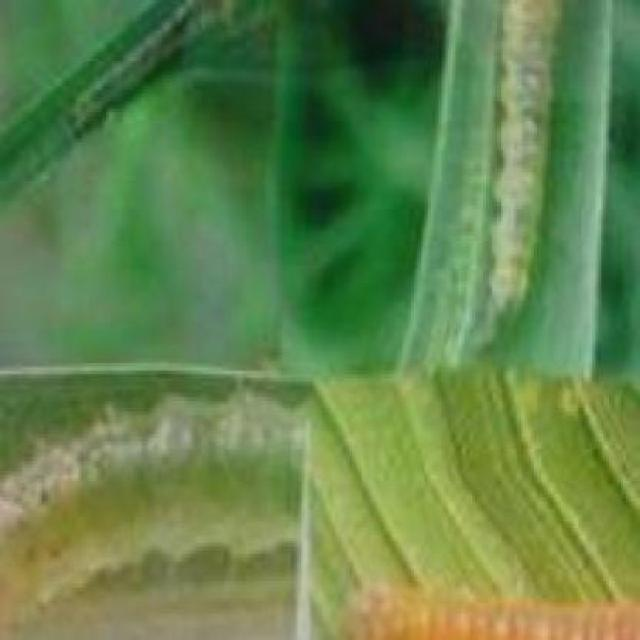leaf-folder: (0, 395, 303, 640), (414, 0, 561, 374), (0, 0, 248, 151), (326, 527, 640, 640)
